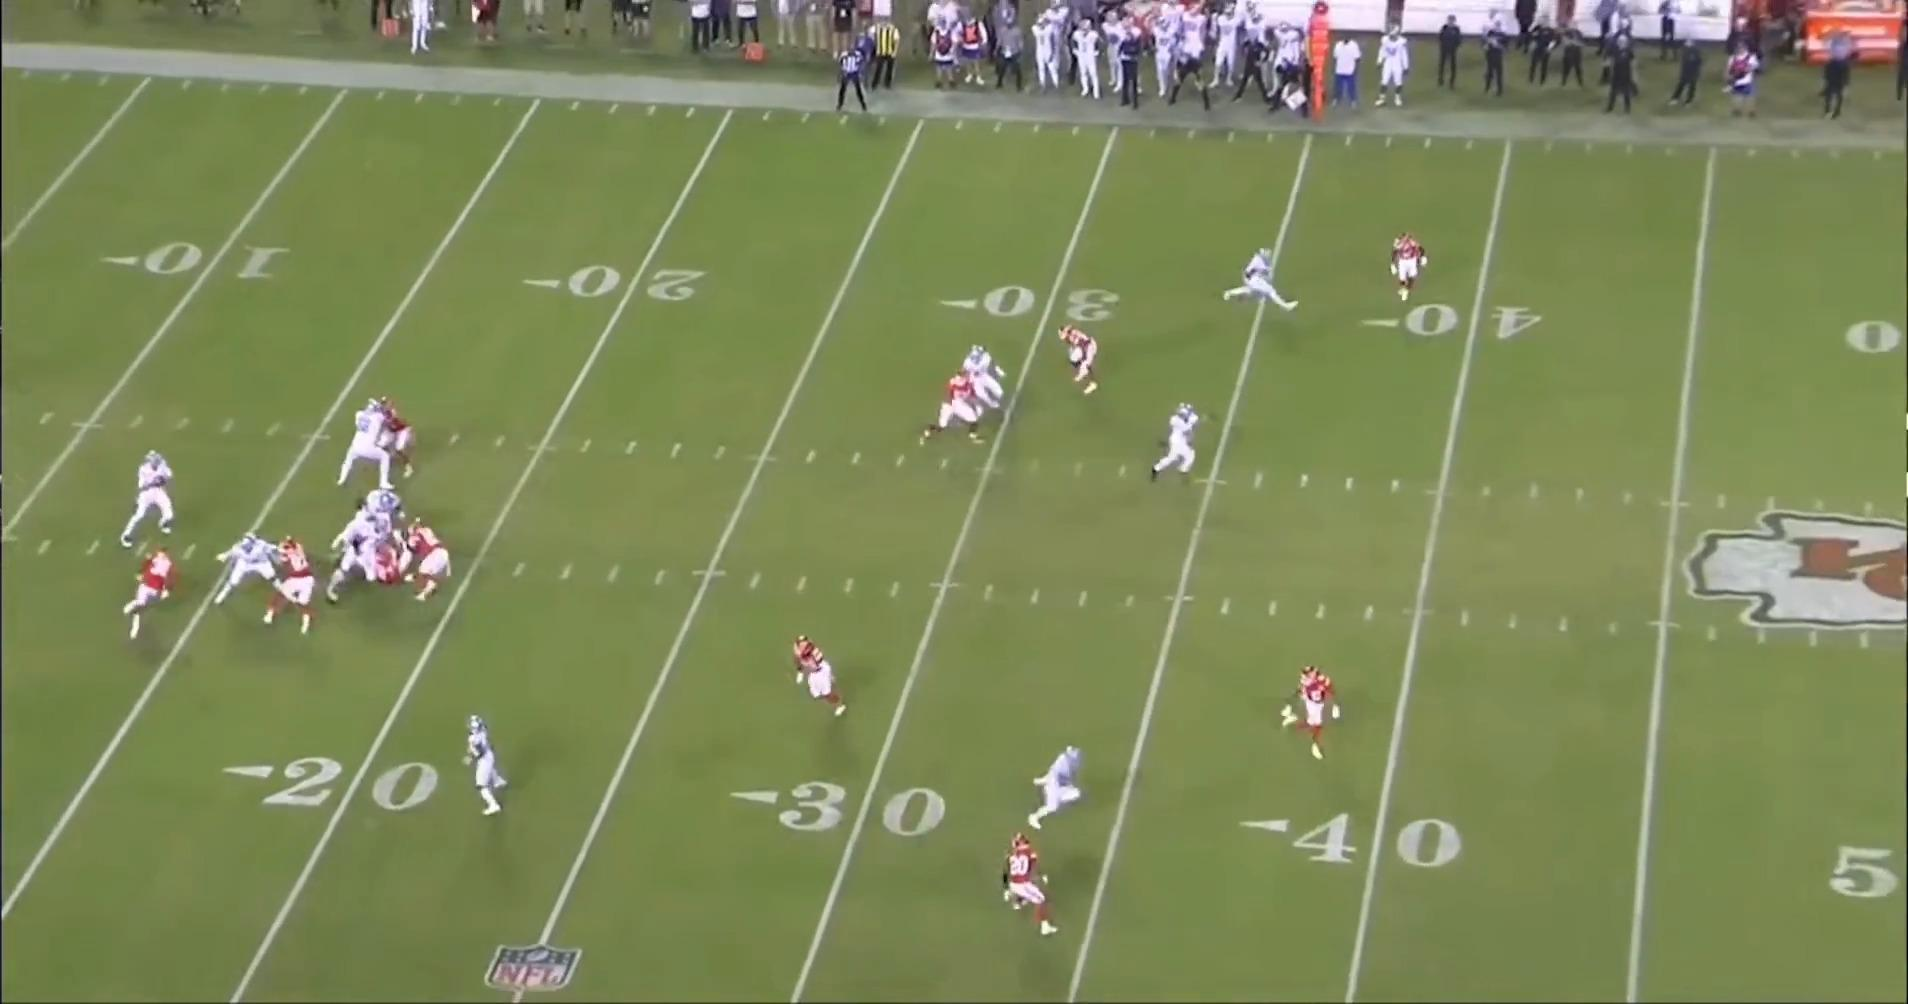player: (993, 832, 1056, 940), (116, 452, 181, 555), (1287, 661, 1350, 763), (208, 528, 284, 607), (324, 517, 392, 605), (334, 403, 399, 493), (923, 371, 994, 453), (1032, 747, 1097, 836), (1223, 244, 1300, 316), (798, 632, 860, 719), (128, 548, 183, 645), (462, 712, 510, 819), (267, 539, 317, 639), (1155, 406, 1213, 487), (963, 345, 1014, 436), (403, 516, 451, 605), (369, 398, 419, 481), (1053, 320, 1099, 396), (1393, 234, 1438, 308), (375, 529, 411, 582), (352, 486, 404, 519)
ref: (829, 39, 872, 116)
